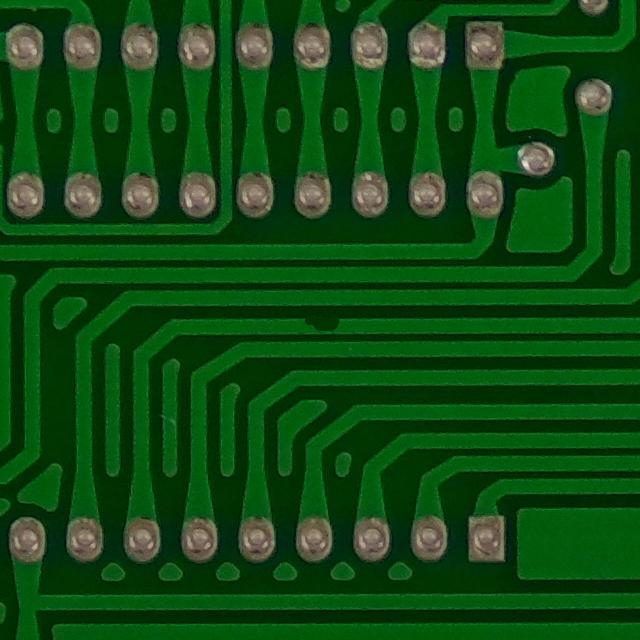mouse_bite: (291, 303, 350, 338)
